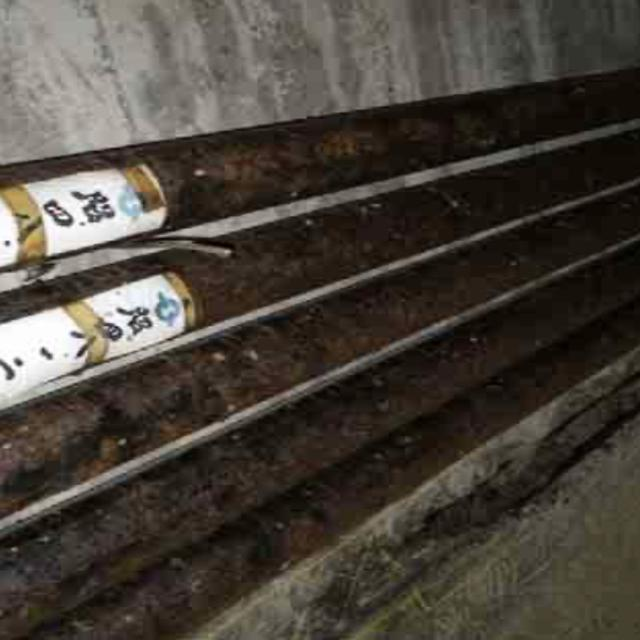corrosion: (13, 111, 624, 640)
